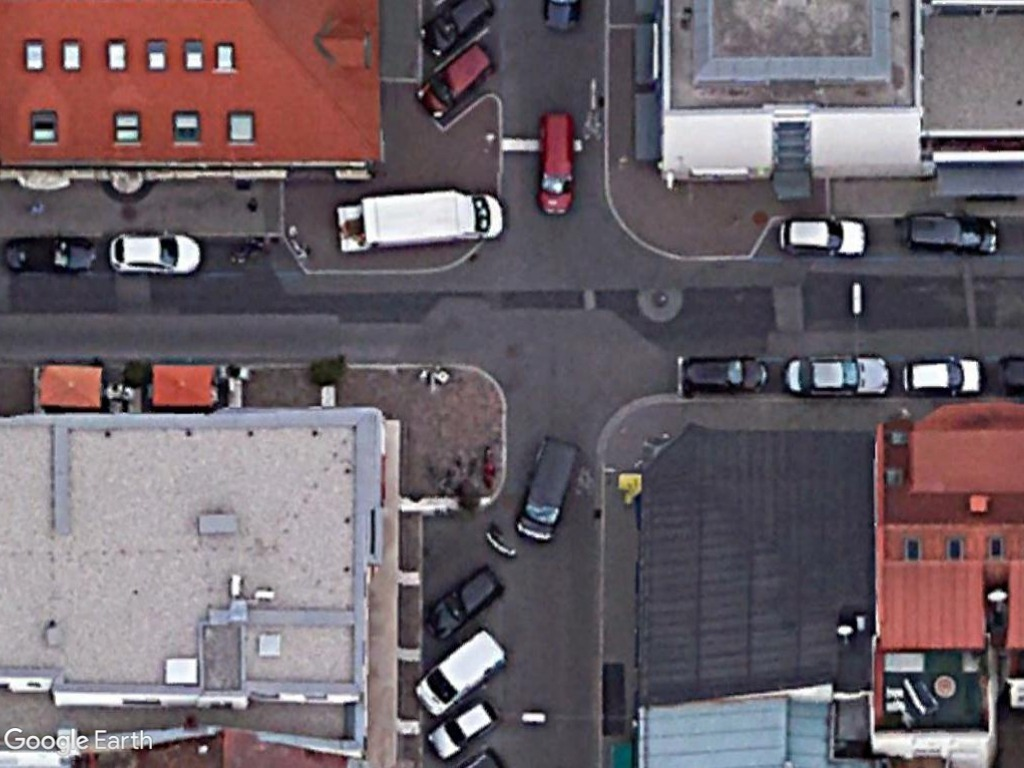car: (409, 39, 495, 123), (423, 564, 504, 645), (899, 207, 1001, 260), (781, 350, 893, 396), (423, 697, 499, 763), (534, 109, 578, 220), (107, 230, 203, 278), (776, 214, 869, 261), (1, 237, 101, 279), (897, 355, 986, 402), (678, 354, 772, 397)
van: (357, 185, 505, 249), (412, 625, 508, 716), (512, 430, 583, 545)
